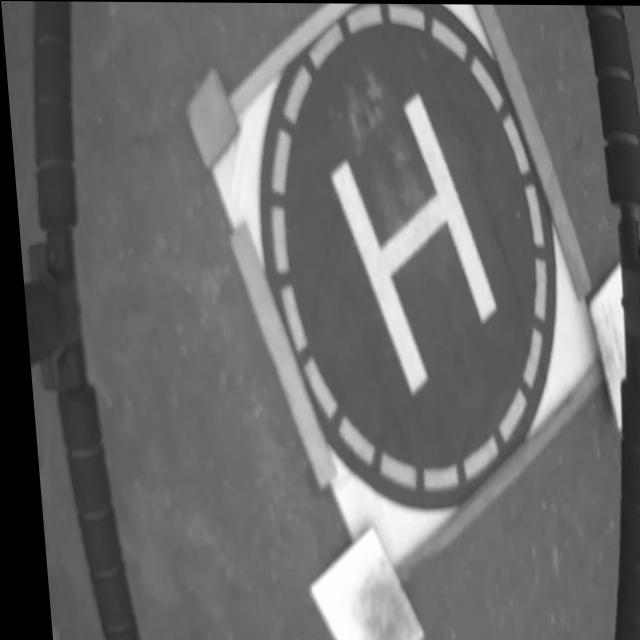Helipad: (326, 89, 491, 395)
